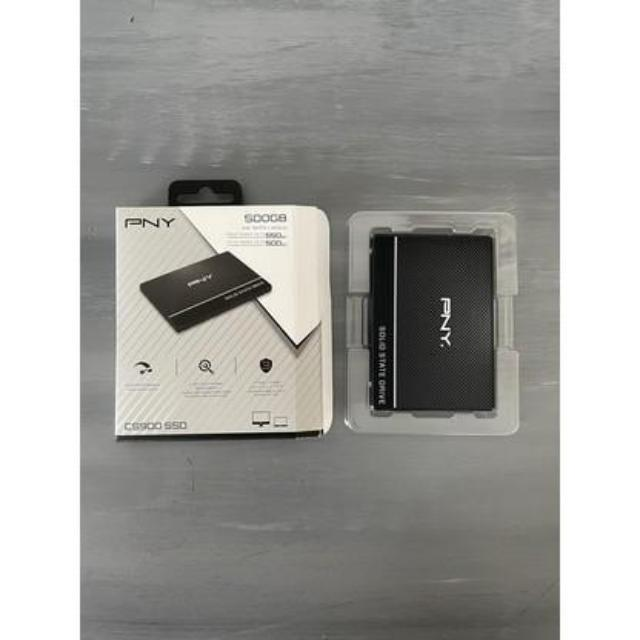DISK: (368, 229, 498, 423)
